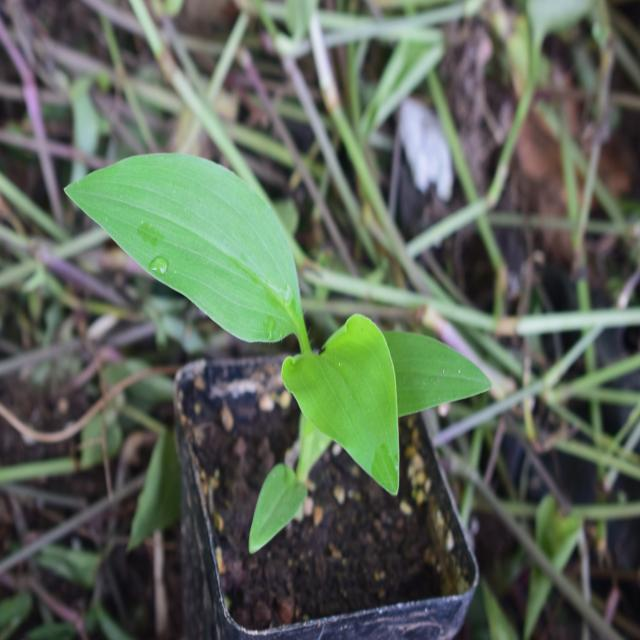Common Dayflower: (86, 138, 483, 498)
